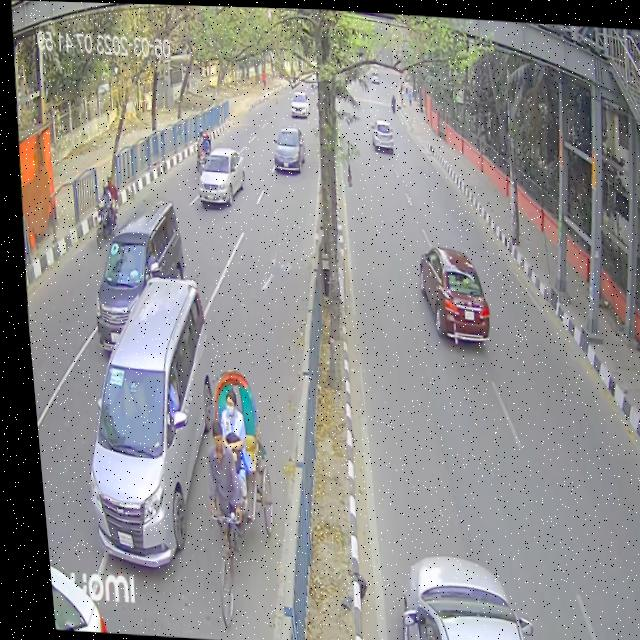rikshaw: (183, 358, 276, 627)
